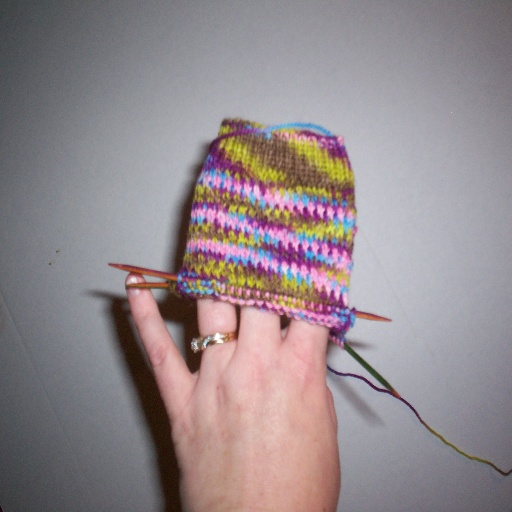hand: (122, 285, 376, 503)
